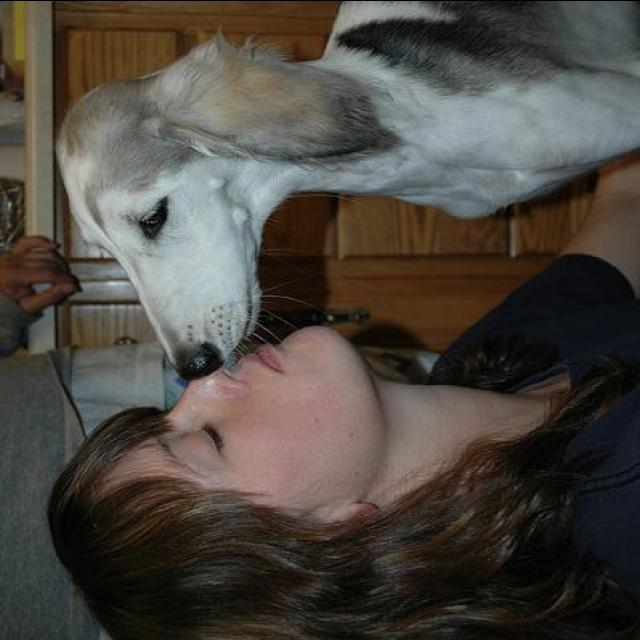saluki: (56, 0, 638, 381)
